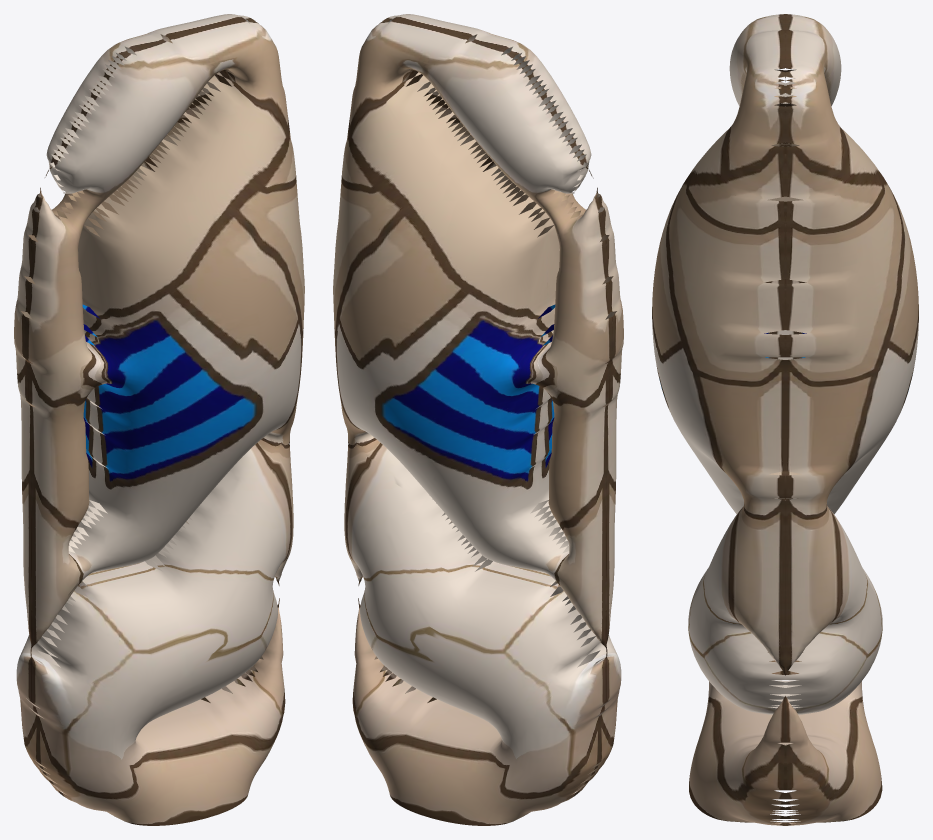
Rendered from blue_console.glb.
3 renders of one model, left to right at view 1: azimuth 30°, elevation 25°; view 2: azimuth 150°, elevation 25°; view 3: azimuth 270°, elevation 25°, orthographic. The views are drawn at different scales.
Visible parts, largest first — view 1: blue_console; view 2: blue_console; view 3: blue_console.
Boxes of the visible parts, <box> form: blue_console: <box>14,14,304,825</box>; blue_console: <box>333,14,623,825</box>; blue_console: <box>652,14,918,825</box>.
Size of the model in its own units: 0.9699 by 2.69 by 0.8488.
1 material, 1 textured.
